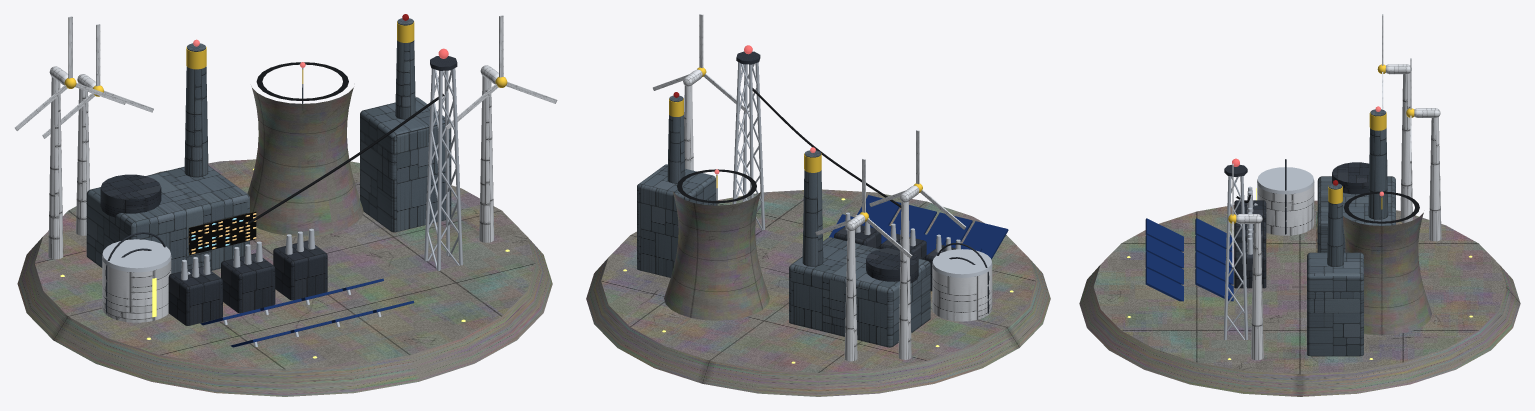
Rendered from power-T4.glb.
3 views of the same model, side by side, from view 1: azimuth 30°, elevation 25°; view 2: azimuth 150°, elevation 25°; view 3: azimuth 270°, elevation 25° (orthographic). The views are drawn at different scales.
Visible parts, largest first — view 1: object 1, object 17, object 21, object 12, anim:smoke (×2), object 112, anim:rotZ (×3), object 24, object 28, object 32, object 103, object 13 (+6 smaller); view 2: object 1, object 17, object 12, object 21, anim:smoke (×2), object 112, anim:rotZ (×3), object 103, object 106, object 113, object 13, object 95 (+8 smaller); view 3: object 1, object 17, object 21, anim:smoke (×2), object 112, object 12, object 109, object 103, object 106, object 113, object 13, object 32 (+9 smaller).
Part boxes in pixels (x1=…): object 1: x1=17, y1=159, x2=552, y2=396; object 17: x1=247, y1=86, x2=363, y2=236; object 21: x1=360, y1=97, x2=451, y2=232; object 12: x1=86, y1=165, x2=249, y2=273; anim:smoke (×2): x1=184, y1=18, x2=415, y2=177; object 112: x1=102, y1=259, x2=171, y2=322; anim:rotZ (×3): x1=14, y1=15, x2=557, y2=138; object 24: x1=168, y1=266, x2=222, y2=325; object 28: x1=221, y1=253, x2=275, y2=313; object 32: x1=273, y1=240, x2=327, y2=300; object 103: x1=48, y1=77, x2=63, y2=259; object 13: x1=100, y1=174, x2=161, y2=217; object 1: x1=586, y1=189, x2=1050, y2=396; object 17: x1=664, y1=191, x2=769, y2=320; object 12: x1=789, y1=237, x2=930, y2=347; object 21: x1=637, y1=164, x2=715, y2=277; anim:smoke (×2): x1=667, y1=95, x2=823, y2=266; object 112: x1=932, y1=266, x2=992, y2=321; anim:rotZ (×3): x1=653, y1=14, x2=965, y2=258; object 103: x1=898, y1=201, x2=911, y2=359; object 106: x1=844, y1=230, x2=857, y2=361; object 113: x1=932, y1=249, x2=992, y2=277; object 13: x1=866, y1=248, x2=918, y2=283; object 95: x1=962, y1=221, x2=1008, y2=259; object 1: x1=1079, y1=200, x2=1520, y2=396; object 17: x1=1343, y1=212, x2=1431, y2=335; object 21: x1=1307, y1=252, x2=1363, y2=356; anim:smoke (×2): x1=1327, y1=109, x2=1388, y2=266; object 112: x1=1257, y1=183, x2=1314, y2=235; object 12: x1=1317, y1=176, x2=1395, y2=252; object 109: x1=1251, y1=223, x2=1263, y2=360; object 103: x1=1400, y1=73, x2=1412, y2=223; object 106: x1=1429, y1=117, x2=1441, y2=241; object 113: x1=1257, y1=167, x2=1314, y2=194; object 13: x1=1332, y1=162, x2=1369, y2=194; object 32: x1=1234, y1=242, x2=1266, y2=288.
Size of the model in its own units: 6.2 by 3.49 by 6.2.
17 materials, 7 textured.
